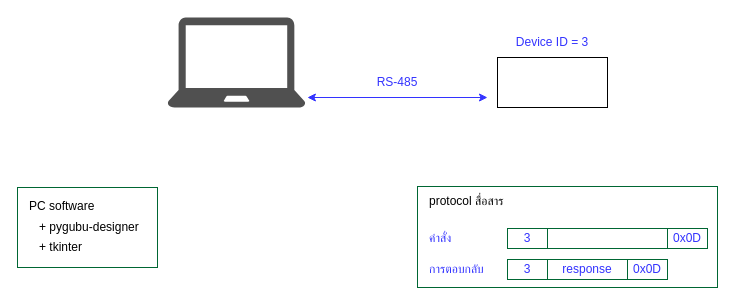
The diagram is 735 pixels wide and 305 high, and some of its shapes have lost their labels. Here are the shapes that lost their labels. From the top down, the centre of each, then its label:
At (x=552, y=82): "Relay Module".
At (x=607, y=238): "CMD".
